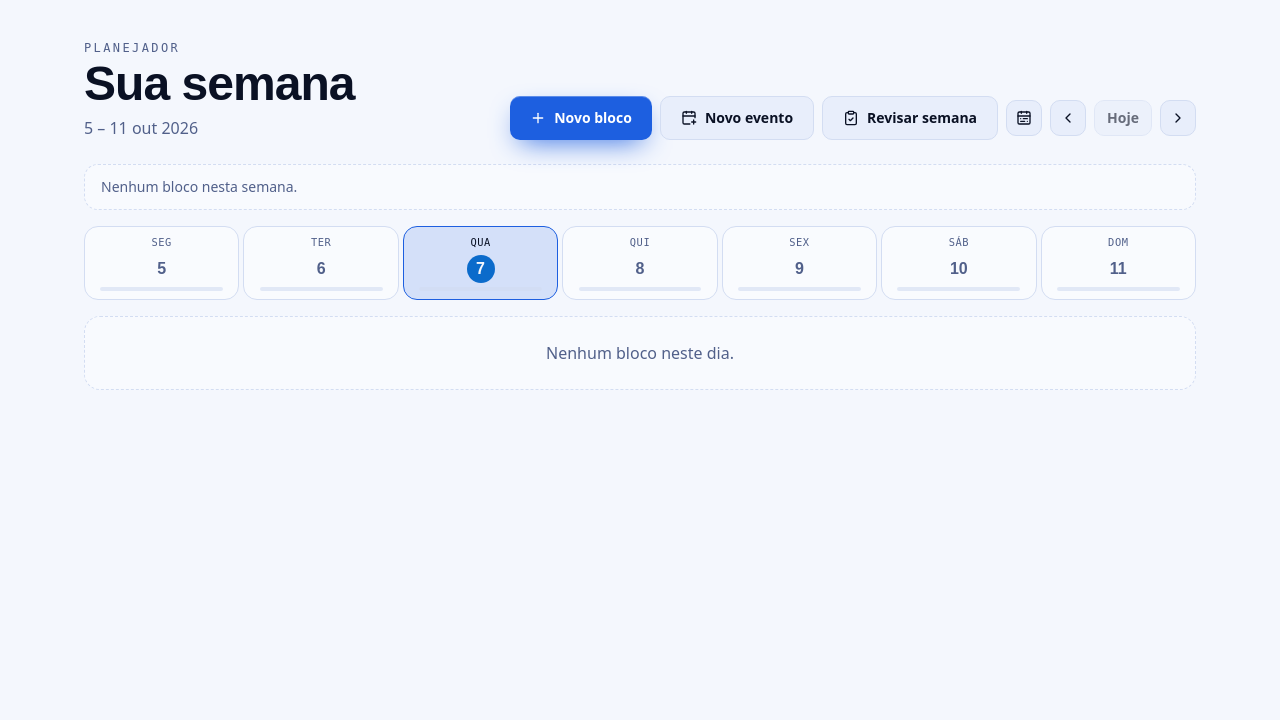
eventos na Semana › criar evento › no celular, sugere o dia que está aberto
The image size is (1280, 720).
Click the tab with aria-label "sexta-feira" at (799, 263), box [722,226,877,300]
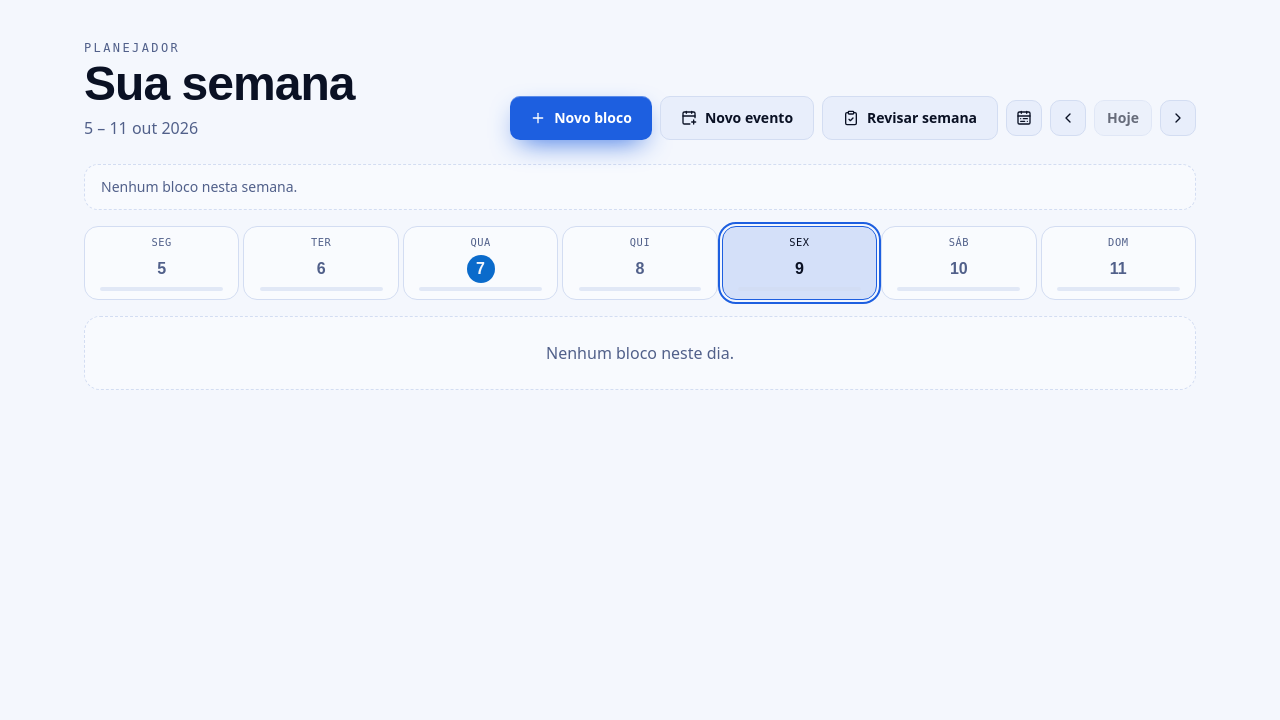
Click the button "Novo evento" at (737, 118), box [660,96,814,140]
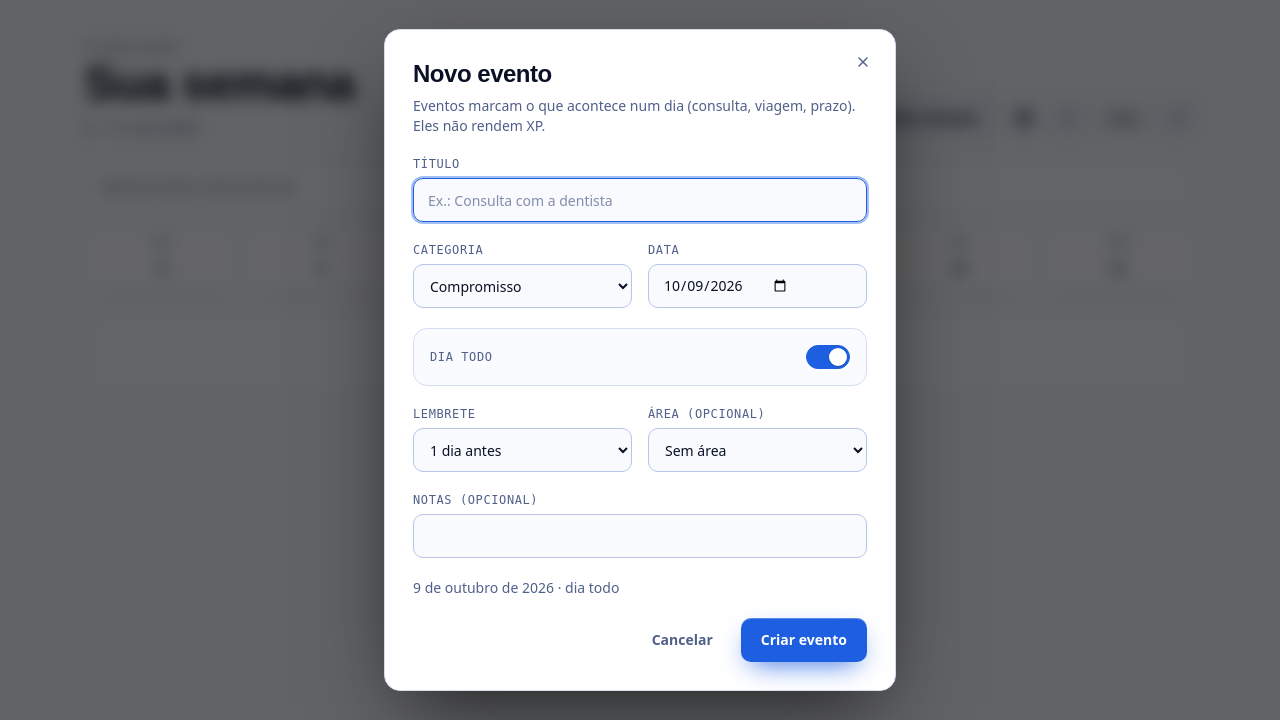
Now the date field labelled "Data" holds "2026-10-09", box [648,264,867,308]
